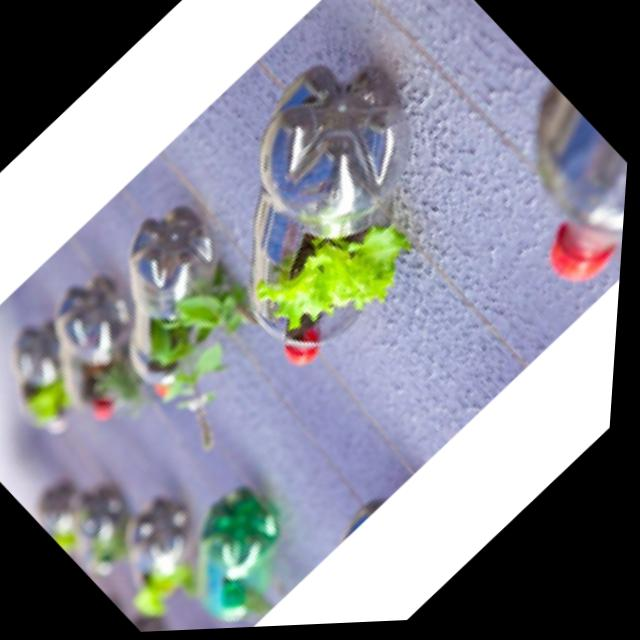plastic_soda_bottles: (147, 31, 505, 383), (60, 189, 295, 420), (454, 86, 634, 313), (16, 259, 193, 434), (158, 472, 330, 633)
